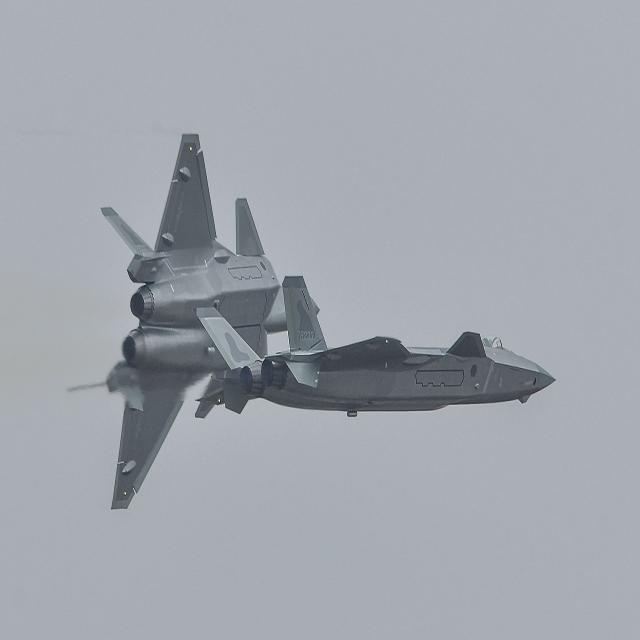MIL_Plane: (66, 133, 320, 510), (194, 275, 556, 418)
